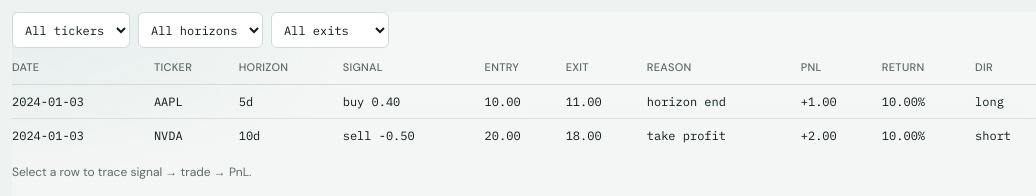
it: TradeAuditTable › renders trade rows and filters by ticker
expect the table with test id "trade-audit-table" shows "AAPL": met, box 154,94 -> 183,109
expect the table with test id "trade-audit-table" shows "NVDA": met, box 154,128 -> 183,143
Select "AAPL" in the dropdown named "Filter ticker" at (71, 30), box 12,12 -> 130,48
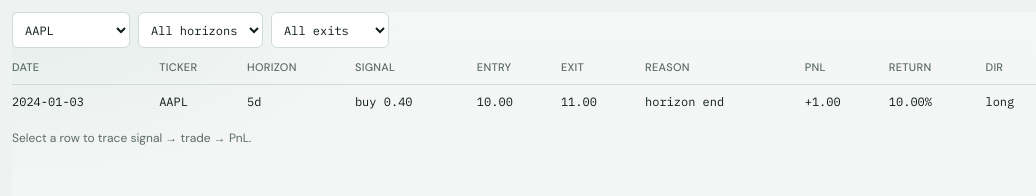
expect the table with test id "trade-audit-table" shows "AAPL": met, box 159,94 -> 188,109
expect the cell with test id "trade-audit-table" no longer shows "NVDA": met
